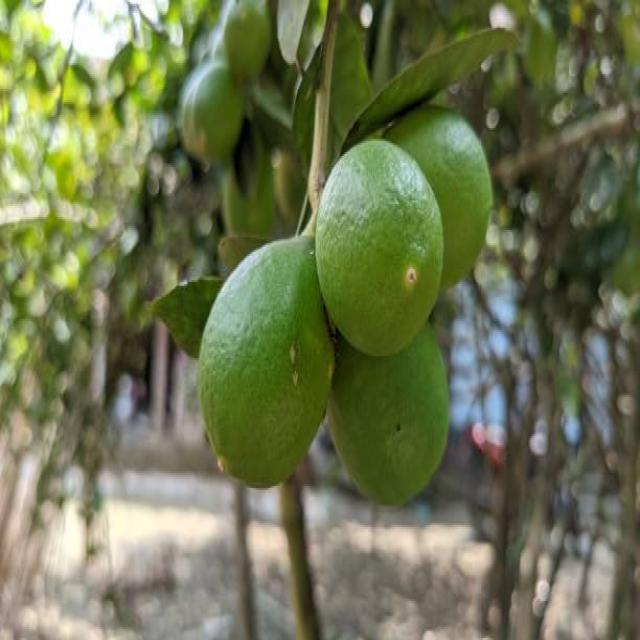Unripe: (200, 227, 334, 489), (318, 136, 443, 354)
